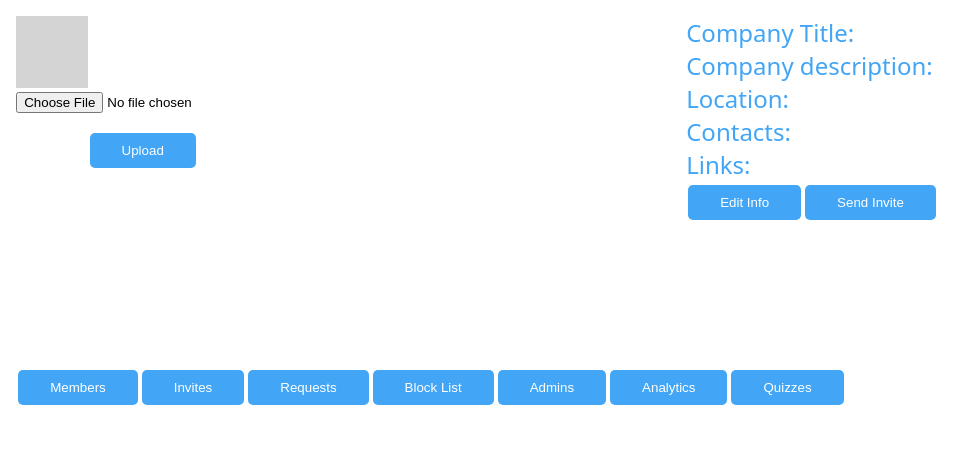
Test: CompanyContainer › renders CompanyProfileRequests when "Quizzes" button is clicked
Click the button "Quizzes". click: (788, 388)
box: [731, 370, 844, 405]
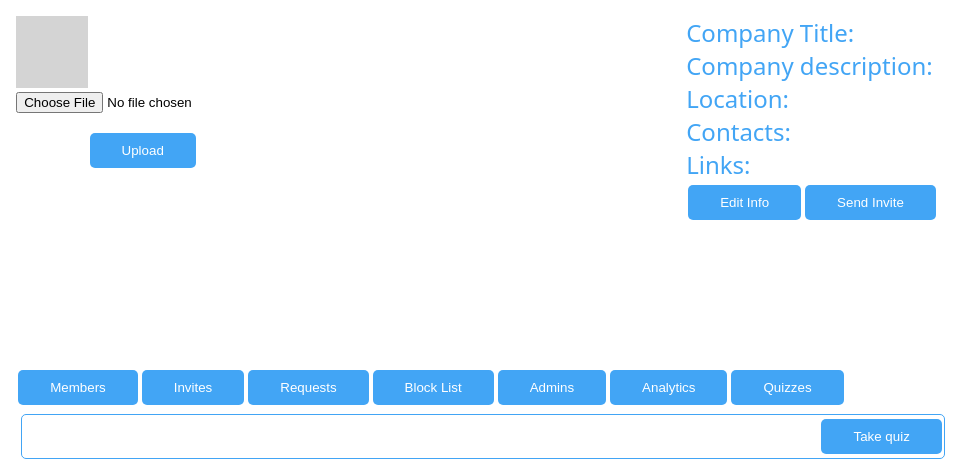
Now the element with test id "company-profile-quizzes" is shown, box [16, 414, 938, 459]
